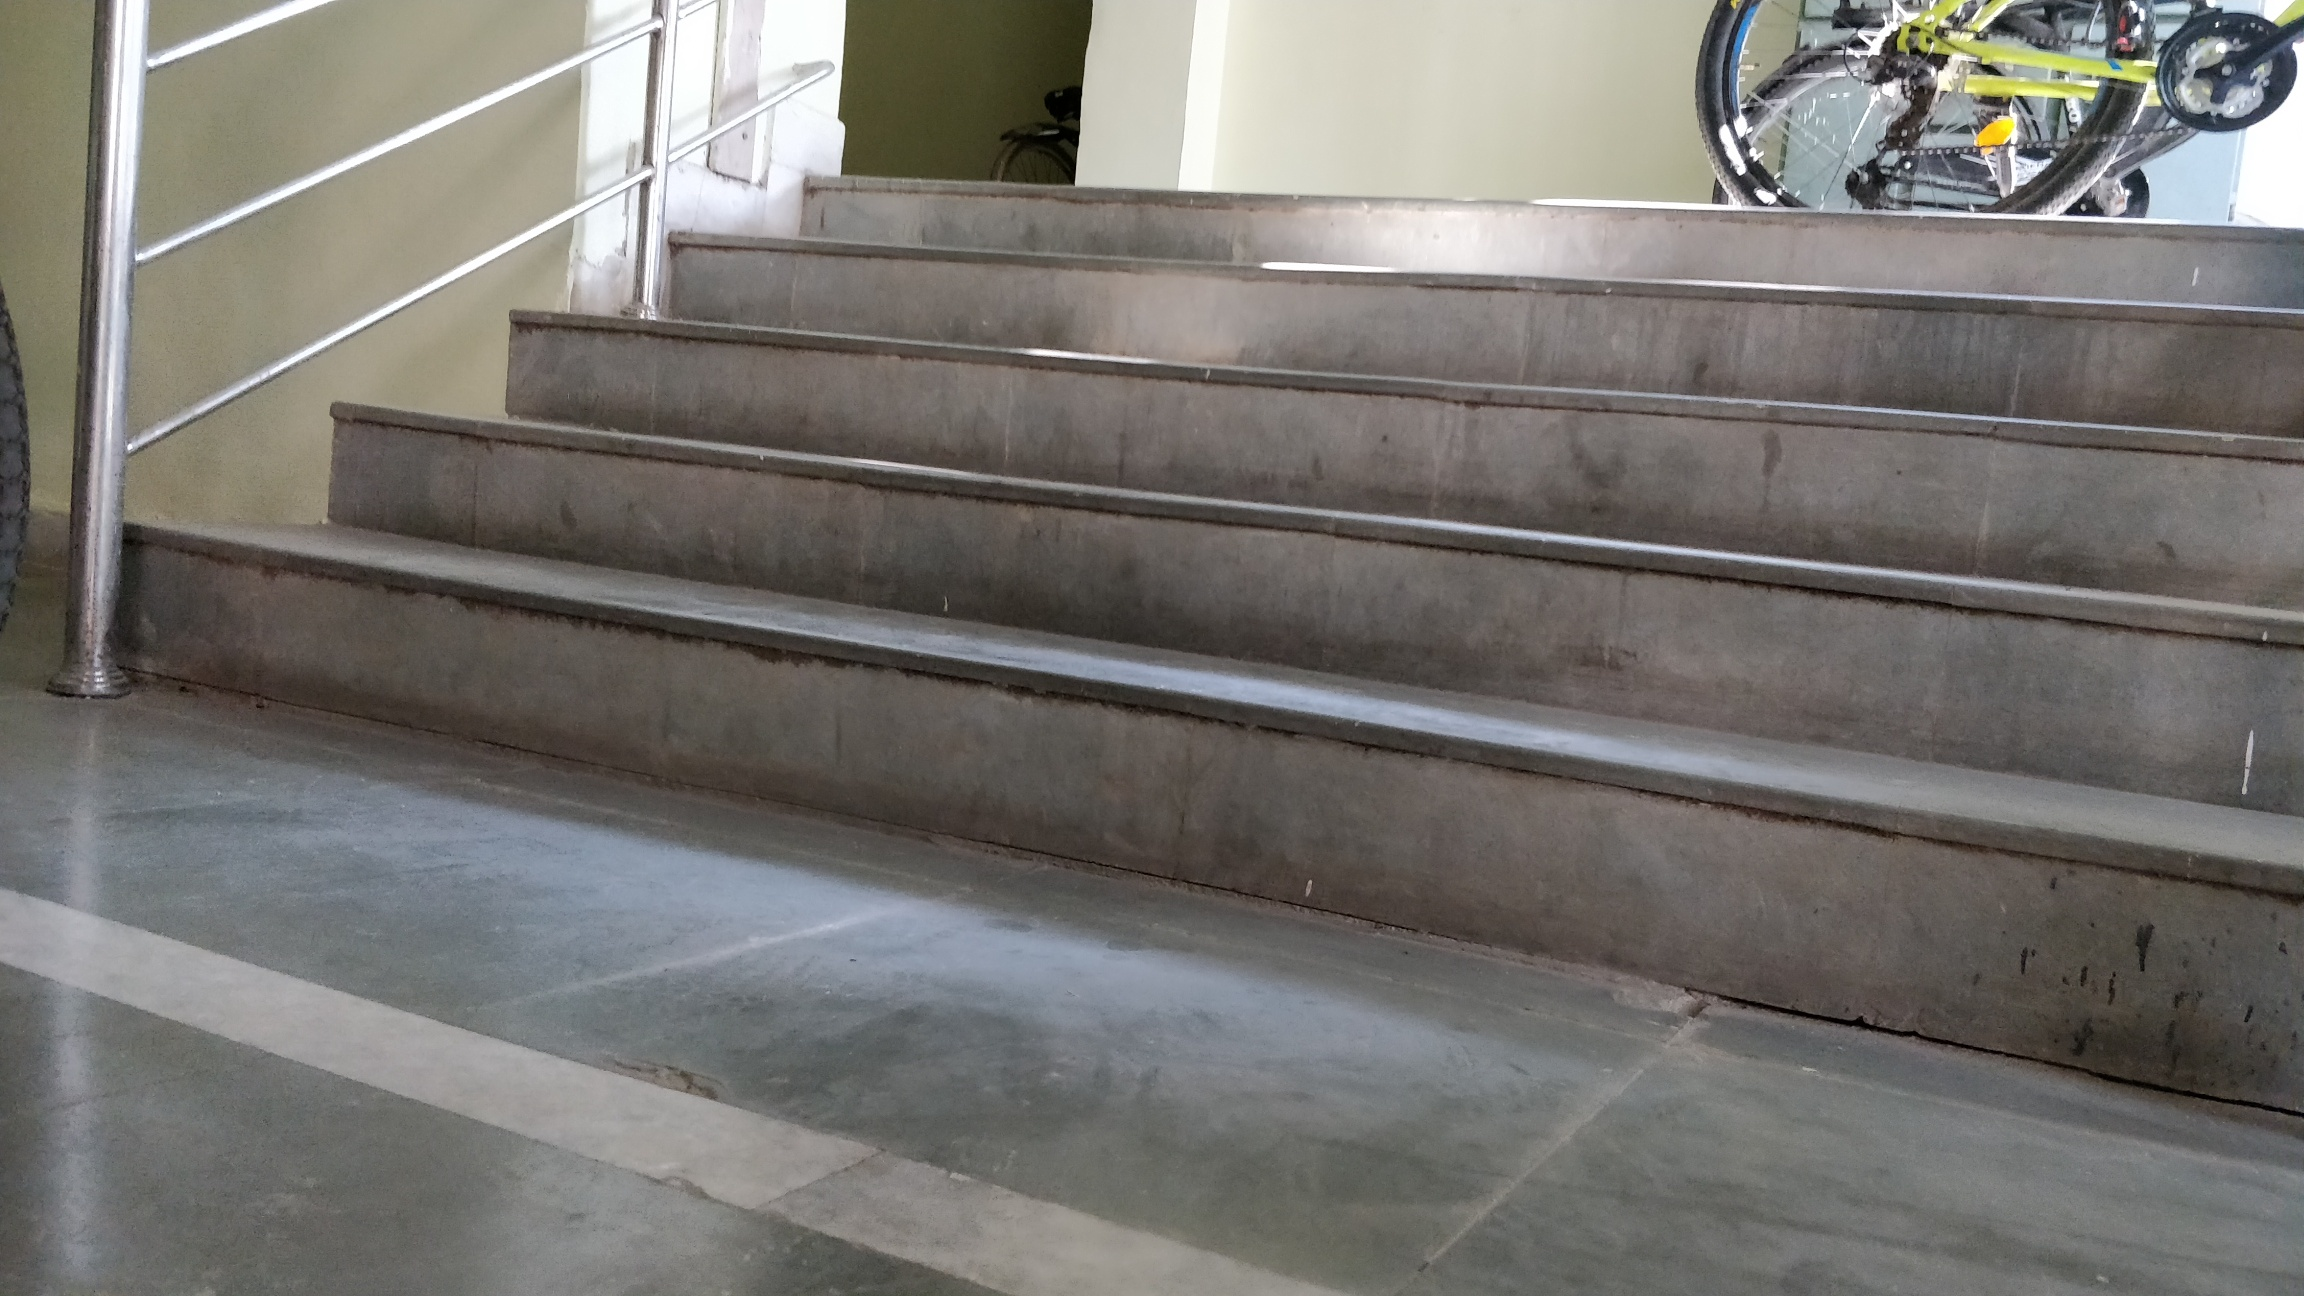stairs_up: (312, 199, 2279, 791)
